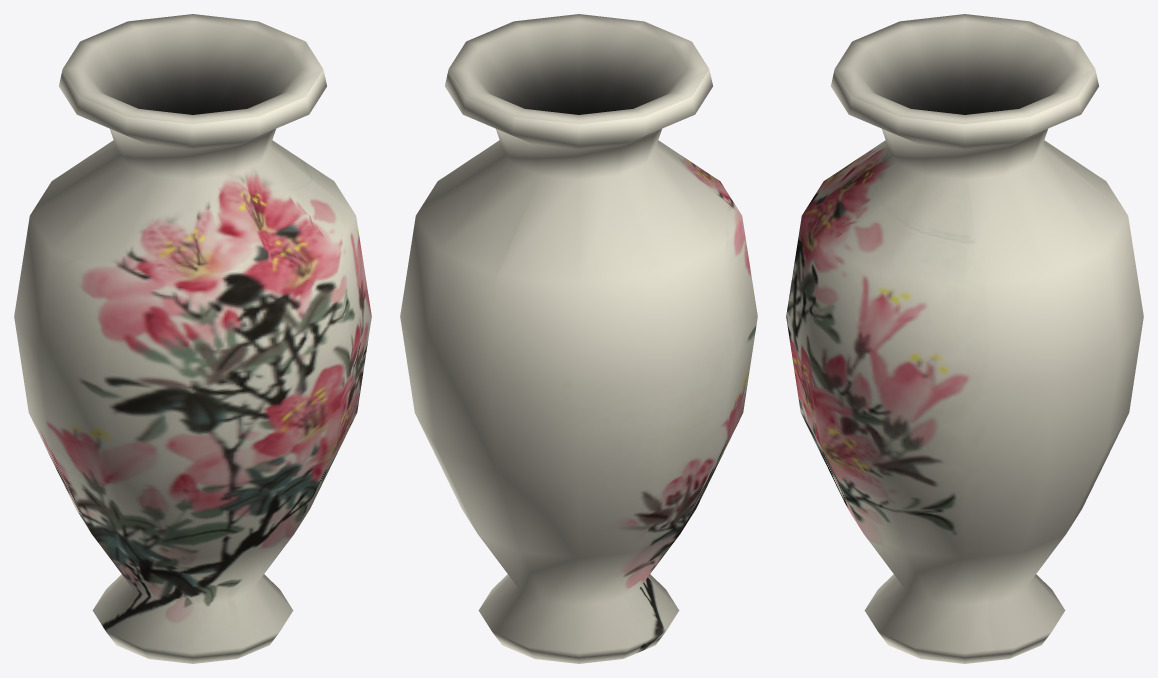
The model's file is Foyer_vaseSmall_01.glb.
3 views of the same model, side by side, from view 1: azimuth 30°, elevation 25°; view 2: azimuth 150°, elevation 25°; view 3: azimuth 270°, elevation 25° (orthographic).
Parts seen in each view (by area): view 1: Cylinder001; view 2: Cylinder001; view 3: Cylinder001.
Boxes of the visible parts, box(x1,y1,x2,y2) form: Cylinder001: box(14, 14, 371, 663); Cylinder001: box(400, 14, 757, 663); Cylinder001: box(786, 14, 1143, 663).
Size of the model in its own units: 34.89 by 60 by 34.89.
Materials: 1 (1 with a texture image).
